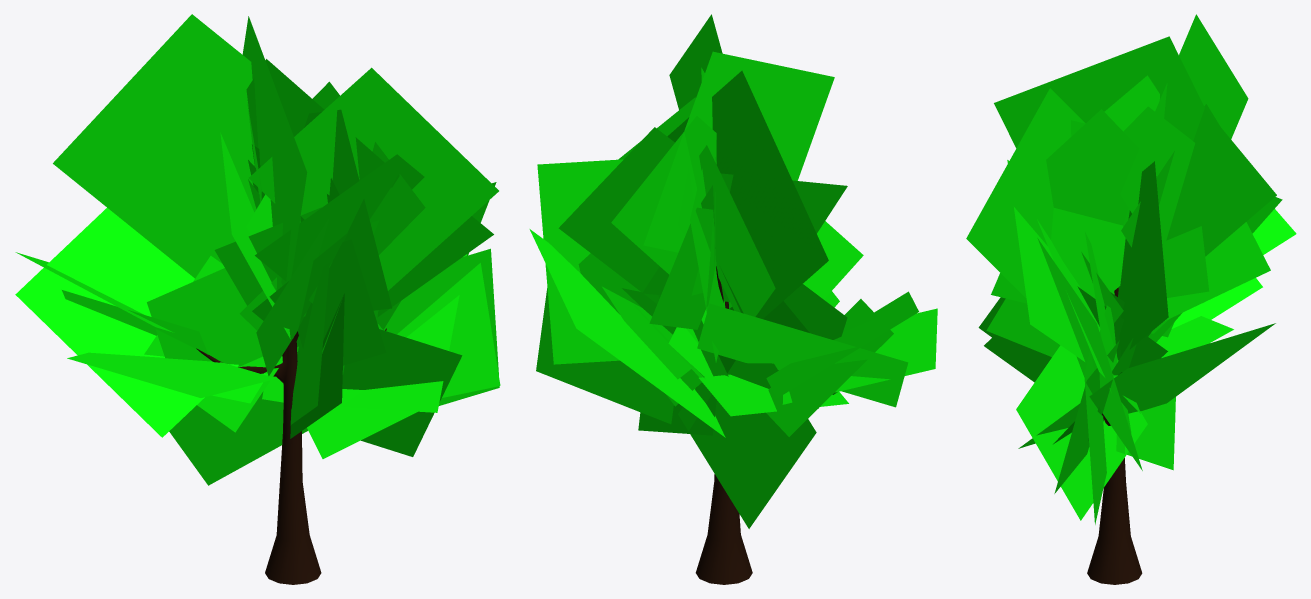
The model's file is tree no leaves LOW poly.fbx.
The picture shows the model from 3 angles, left to right: view 1: azimuth 30°, elevation 25°; view 2: azimuth 150°, elevation 25°; view 3: azimuth 270°, elevation 25°; orthographic projection. The views are drawn at different scales.
Visible parts, largest first — view 1: Low poly tree; view 2: Low poly tree; view 3: Low poly tree.
Part boxes in pixels (left/top/right/bottom): Low poly tree: left=15, top=14, right=500, bottom=584; Low poly tree: left=529, top=14, right=937, bottom=584; Low poly tree: left=966, top=14, right=1296, bottom=584.
Bounding box in the file's own units: 23.75 × 28.49 × 16.08.
